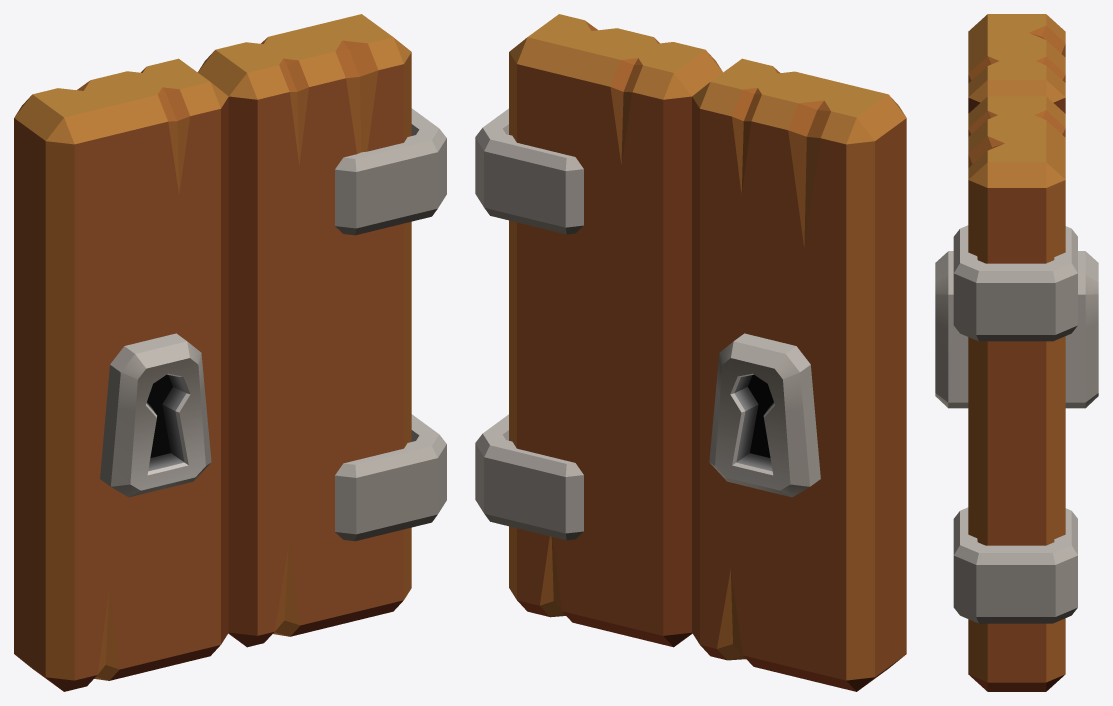
File: m_deco_doorWood_lock.FBX
The picture shows the model from 3 angles, left to right: view 1: azimuth 30°, elevation 25°; view 2: azimuth 150°, elevation 25°; view 3: azimuth 270°, elevation 25°; orthographic projection. The views are drawn at different scales.
Visible parts, largest first — view 1: m_deco_doorWood_lock; view 2: m_deco_doorWood_lock; view 3: m_deco_doorWood_lock.
Part boxes in pixels (<box>): m_deco_doorWood_lock: <box>14,14,446,691</box>; m_deco_doorWood_lock: <box>475,14,906,691</box>; m_deco_doorWood_lock: <box>935,14,1098,691</box>.
Size of the model in its own units: 2.16 by 3 by 0.8371.
